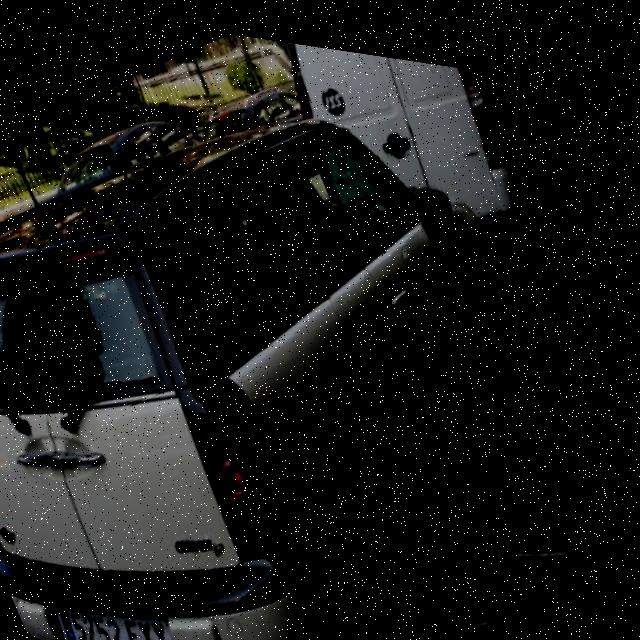license_plate: (66, 550, 216, 640)
